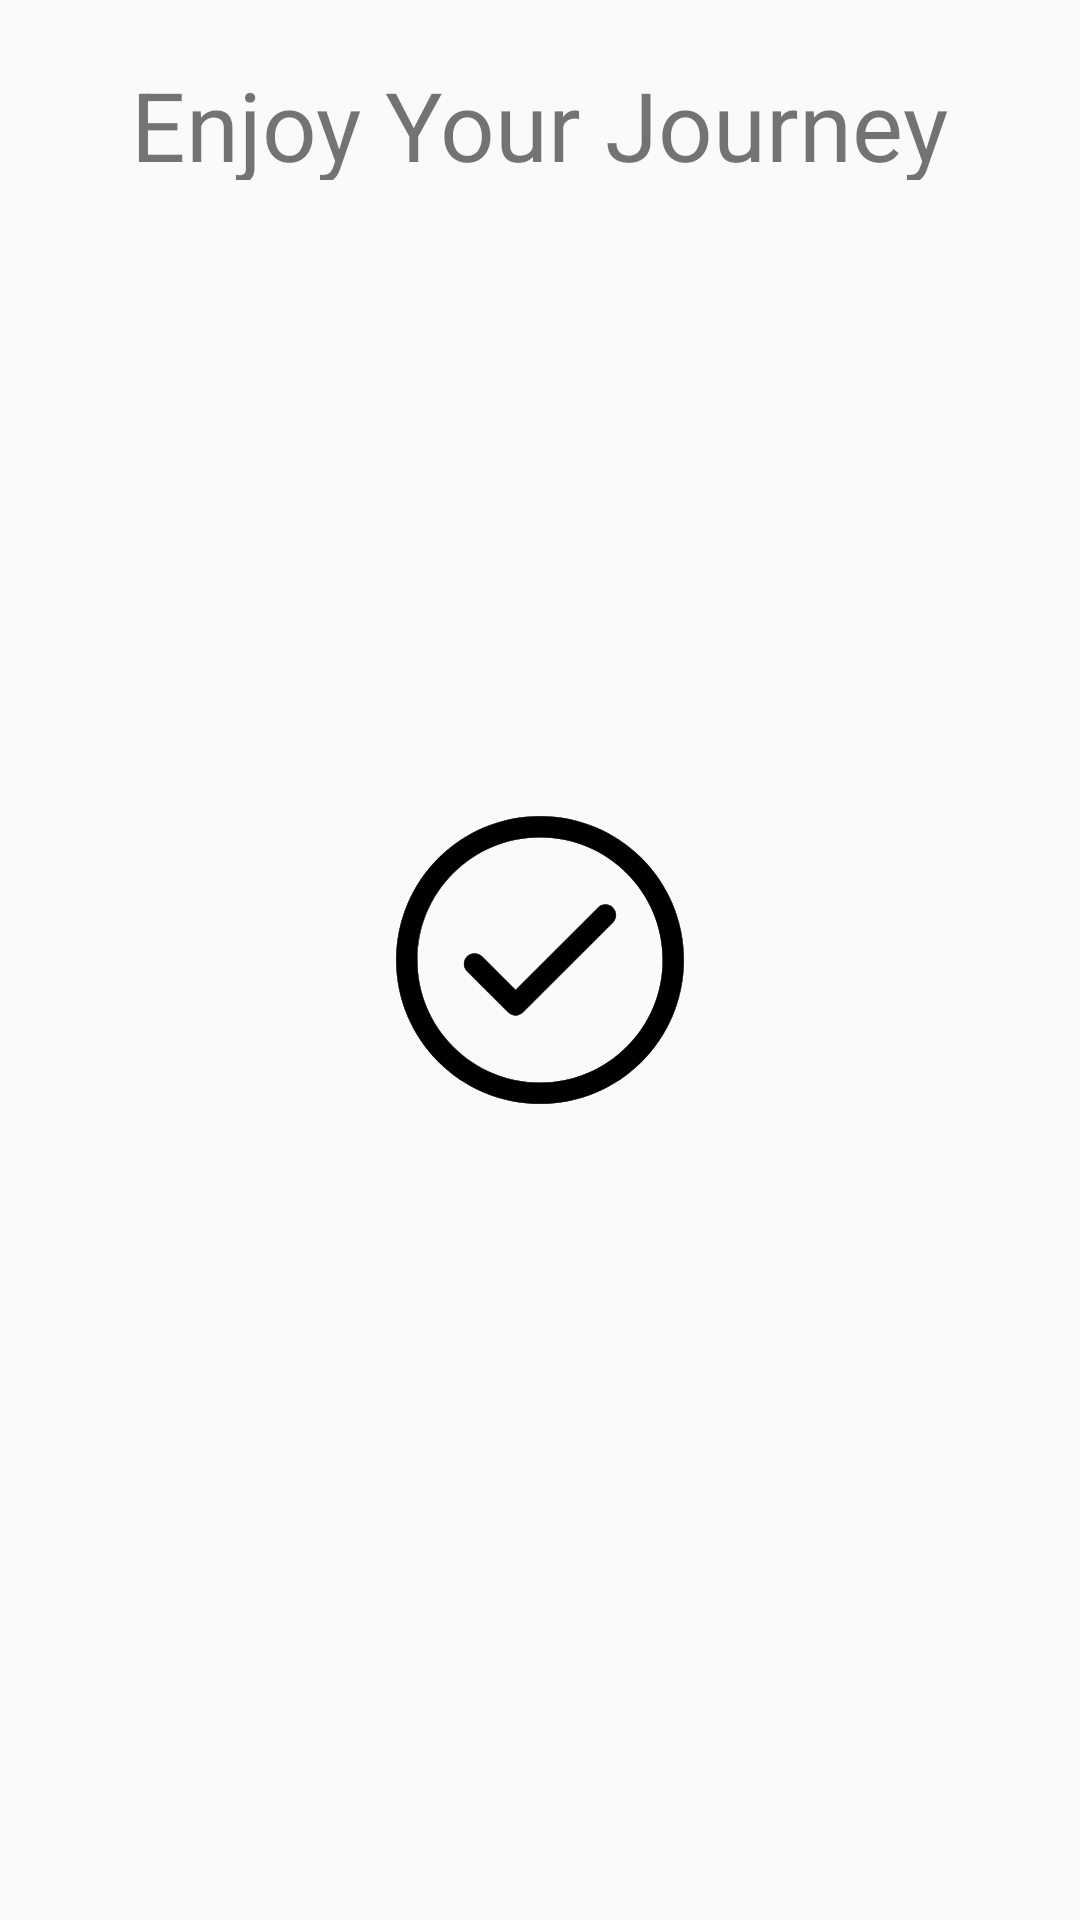

Named icons in this screenshot (1080px×1920px) and their bounding boxes, (x1, y1, x2, y2):
accept circular: (396, 816, 684, 1104)
